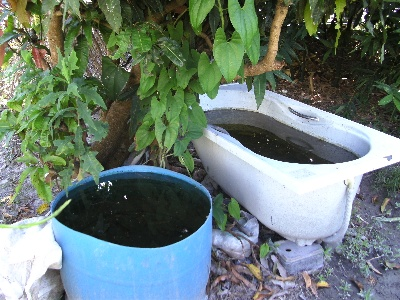bucket: (52, 164, 214, 300)
tub: (183, 72, 400, 248)
